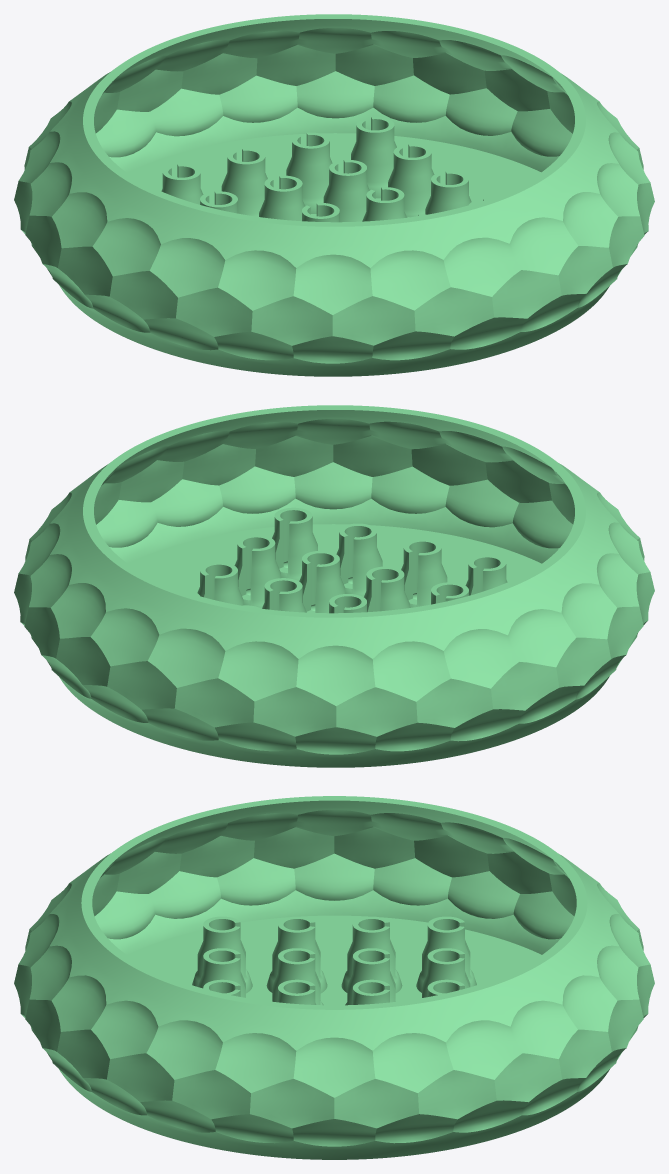
Rendered from pot_4.glb.
3 renders of one model, top to bottom at view 1: azimuth 30°, elevation 25°; view 2: azimuth 150°, elevation 25°; view 3: azimuth 270°, elevation 25°, orthographic.
Parts seen in each view (by area): view 1: pot_4, vase_connector16, vase_connector15, vase_connector12, vase_connector14, vase_connector11, vase_connector10, vase_connector8, vase_connector13, vase_connector7, vase_connector6, vase_connector9; view 2: pot_4, vase_connector8, vase_connector4, vase_connector3, vase_connector2, vase_connector7, vase_connector6, vase_connector12, vase_connector1, vase_connector11, vase_connector10, vase_connector5; view 3: pot_4, vase_connector5, vase_connector9, vase_connector1, vase_connector13, vase_connector6, vase_connector10, vase_connector14, vase_connector2, vase_connector7, vase_connector11.
Part boxes in pixels (left/top/right/bottom): pot_4: left=14, top=14, right=654, bottom=376; vase_connector16: left=351, top=116, right=396, bottom=198; vase_connector15: left=286, top=132, right=332, bottom=213; vase_connector12: left=388, top=144, right=434, bottom=217; vase_connector14: left=221, top=148, right=267, bottom=216; vase_connector11: left=323, top=159, right=369, bottom=222; vase_connector10: left=259, top=175, right=304, bottom=221; vase_connector8: left=425, top=171, right=471, bottom=214; vase_connector13: left=161, top=164, right=203, bottom=204; vase_connector7: left=362, top=187, right=406, bottom=221; vase_connector6: left=302, top=203, right=339, bottom=222; vase_connector9: left=200, top=191, right=237, bottom=213; pot_4: left=14, top=405, right=654, bottom=767; vase_connector8: left=234, top=535, right=280, bottom=608; vase_connector4: left=272, top=507, right=317, bottom=581; vase_connector3: left=336, top=523, right=382, bottom=596; vase_connector2: left=401, top=539, right=447, bottom=607; vase_connector7: left=299, top=550, right=345, bottom=613; vase_connector6: left=364, top=566, right=409, bottom=612; vase_connector12: left=197, top=562, right=243, bottom=605; vase_connector1: left=465, top=555, right=507, bottom=595; vase_connector11: left=262, top=578, right=306, bottom=612; vase_connector10: left=329, top=594, right=366, bottom=613; vase_connector5: left=431, top=582, right=468, bottom=604; pot_4: left=14, top=796, right=654, bottom=1159; vase_connector5: left=266, top=916, right=327, bottom=993; vase_connector9: left=341, top=916, right=402, bottom=992; vase_connector1: left=192, top=916, right=252, bottom=993; vase_connector13: left=416, top=916, right=476, bottom=992; vase_connector6: left=272, top=948, right=323, bottom=1005; vase_connector10: left=345, top=948, right=395, bottom=1005; vase_connector14: left=422, top=948, right=470, bottom=997; vase_connector2: left=197, top=948, right=245, bottom=997; vase_connector7: left=278, top=979, right=316, bottom=1004; vase_connector11: left=352, top=979, right=389, bottom=1004.
Size of the model in its own units: 0.1714 by 0.0404 by 0.1714.
